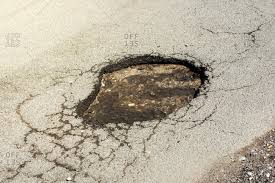pothole: (81, 48, 210, 127)
